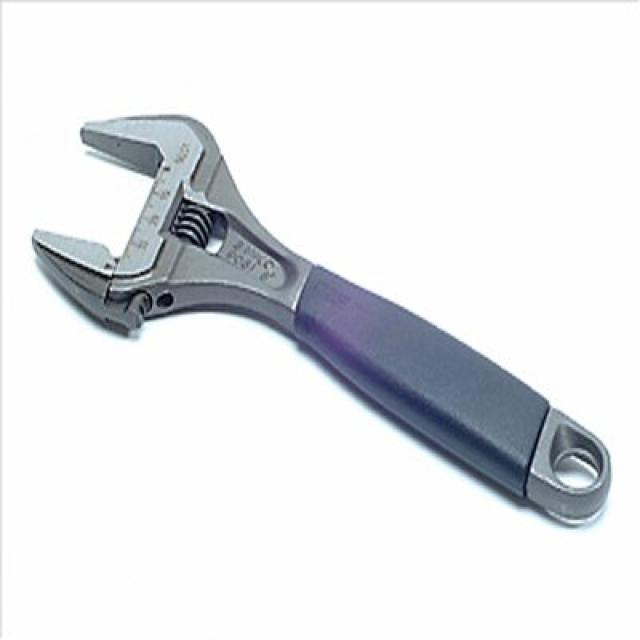wrench: (24, 90, 640, 586)
